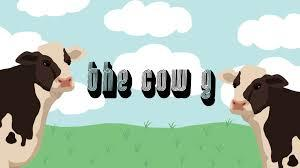cow: (0, 43, 84, 168), (220, 67, 300, 168)
